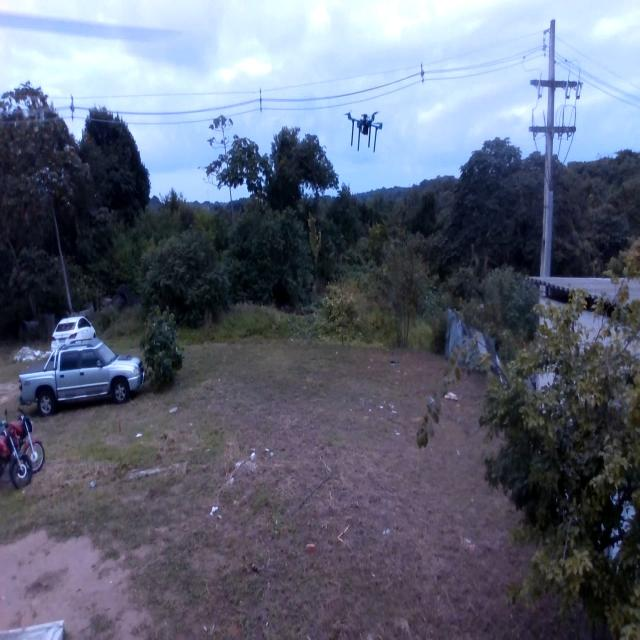-uav-: (334, 96, 387, 153)
